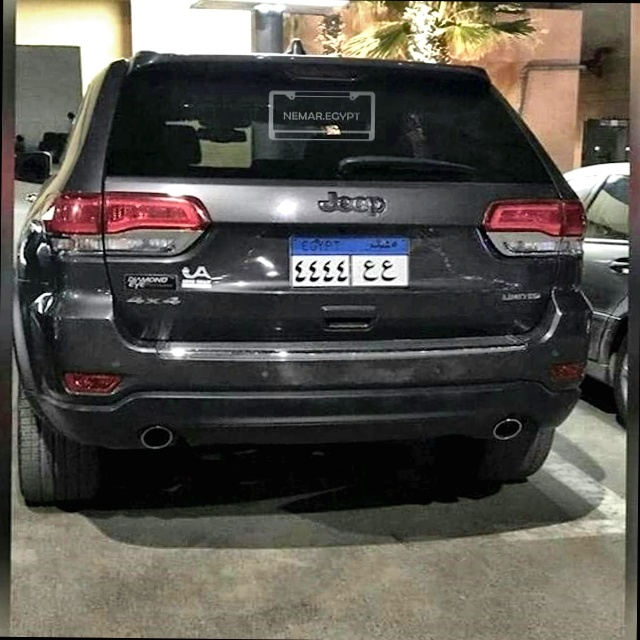License Plate: (283, 229, 414, 293)
